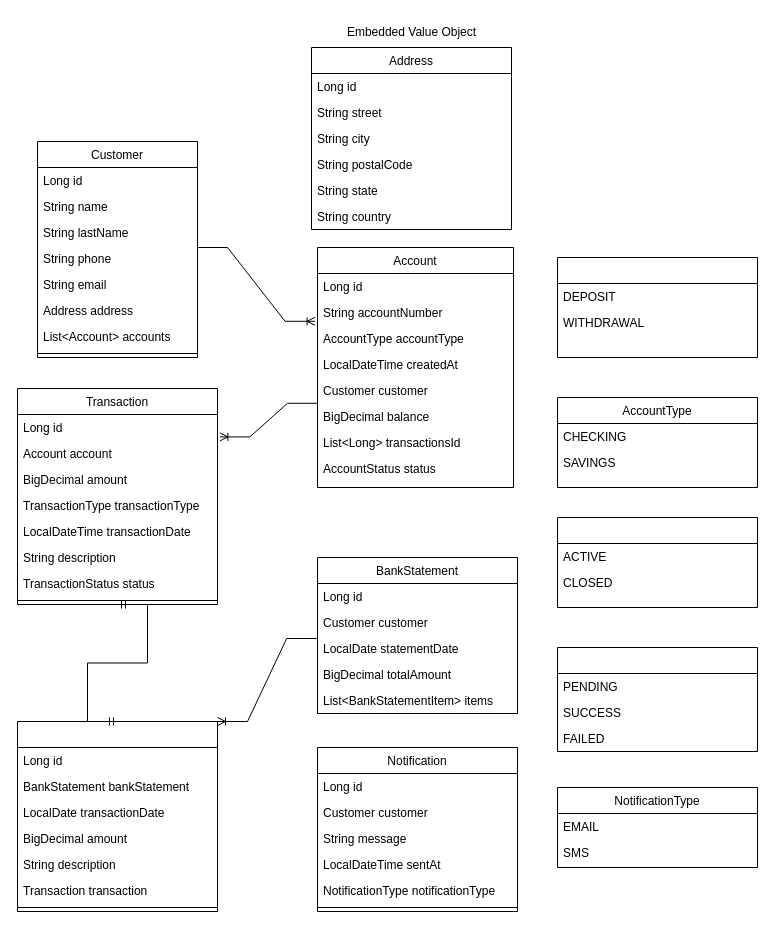
Image size: 775x929. Some labels were removed from this diagram. The box of each missing label's shape, as (x1, y1, x2, y2) in pixels:
AccountStatus: (556, 516, 758, 608)
BankStatementItem: (16, 720, 218, 912)
TransactionStatus: (556, 646, 758, 752)
TransactionType: (556, 256, 758, 358)
